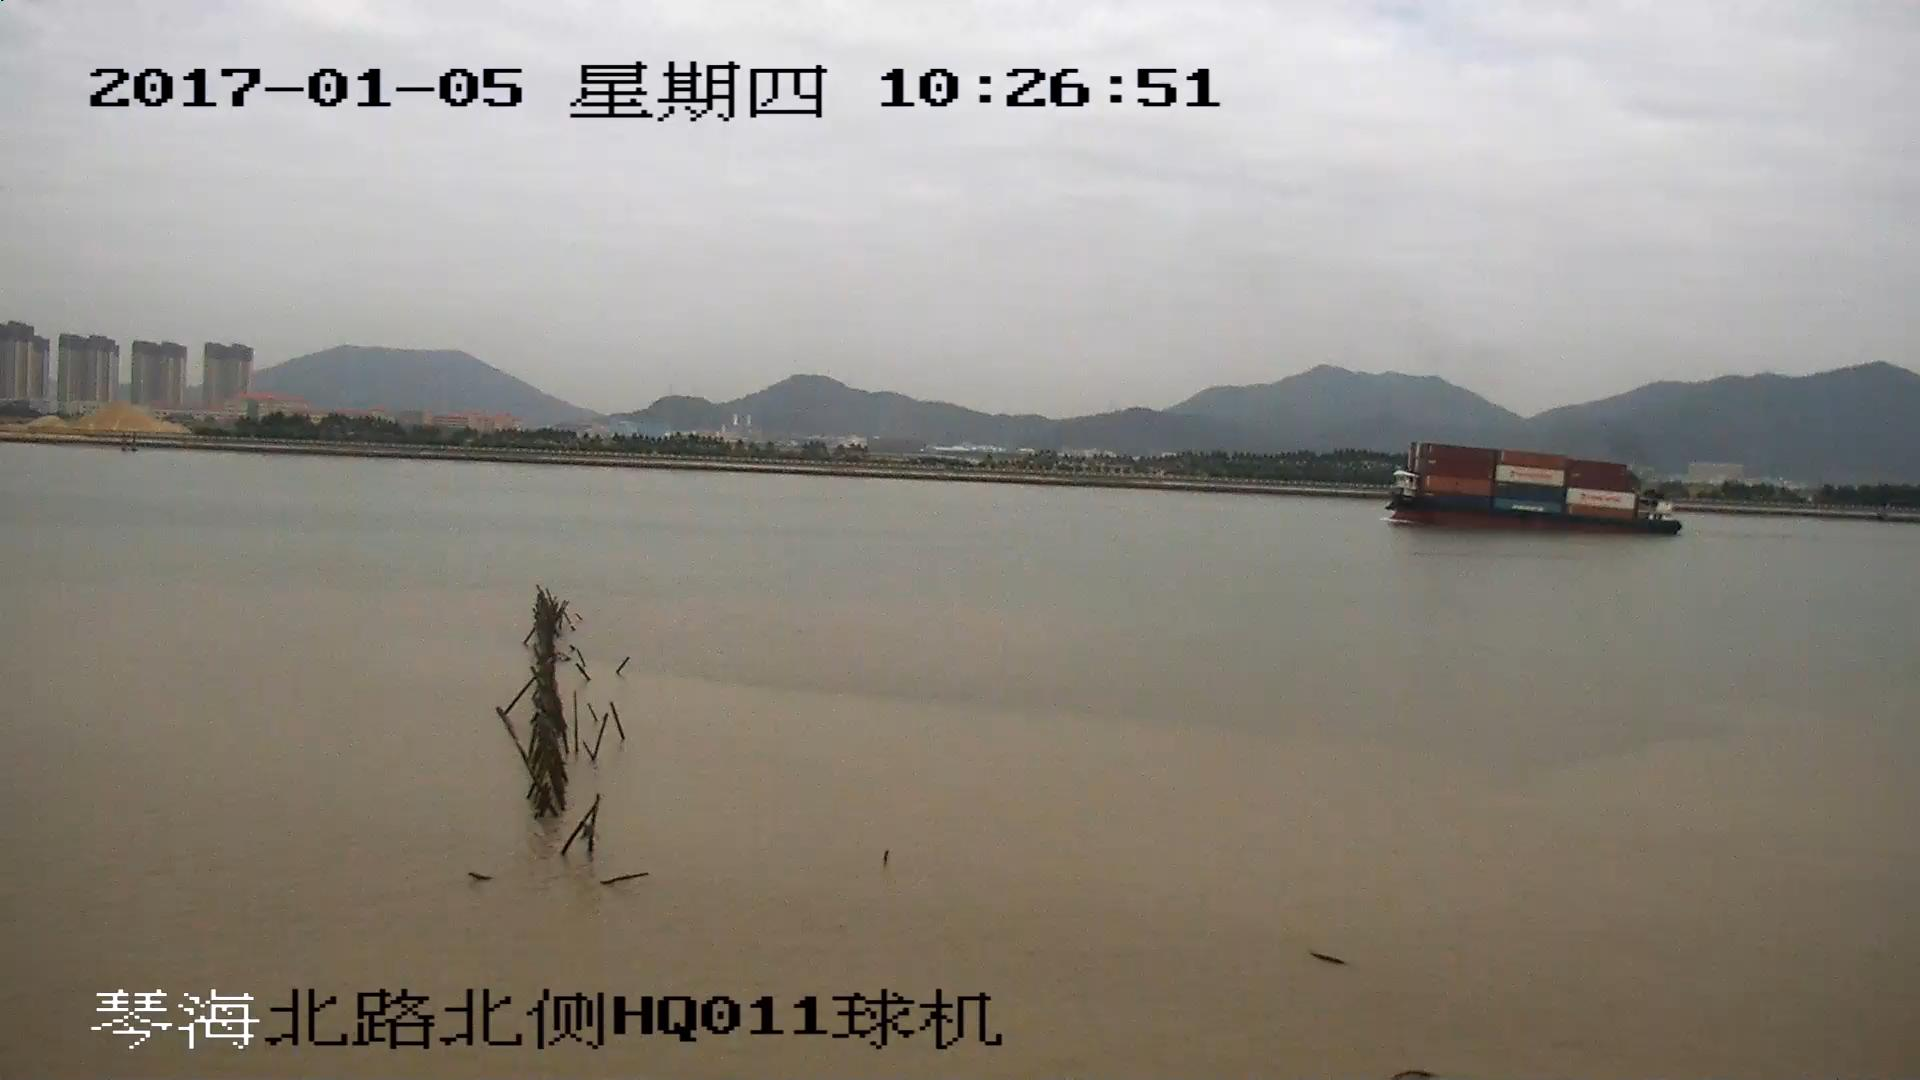container ship: (1390, 445, 1683, 537)
